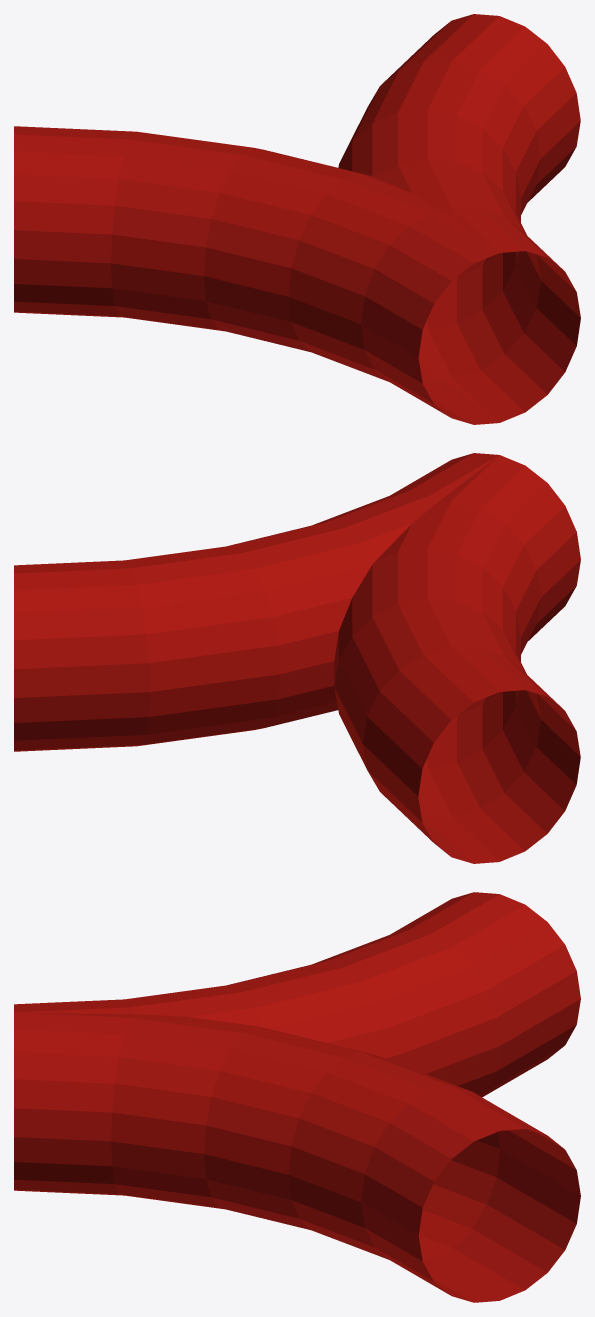
The model's file is Vessel_separate_100_inside.fbx.
The picture shows the model from 3 angles, top to bottom: view 1: azimuth 30°, elevation 25°; view 2: azimuth 150°, elevation 25°; view 3: azimuth 270°, elevation 25°; orthographic projection.
Visible parts, largest first — view 1: Vessel_separate_100; view 2: Vessel_separate_100; view 3: Vessel_separate_100.
Part boxes in pixels (x1,y1,x2,y2): Vessel_separate_100: (14, 14, 580, 424); Vessel_separate_100: (14, 453, 580, 863); Vessel_separate_100: (14, 892, 580, 1302).
Bounding box in the file's own units: 22.28 × 6.39 × 19.31.
